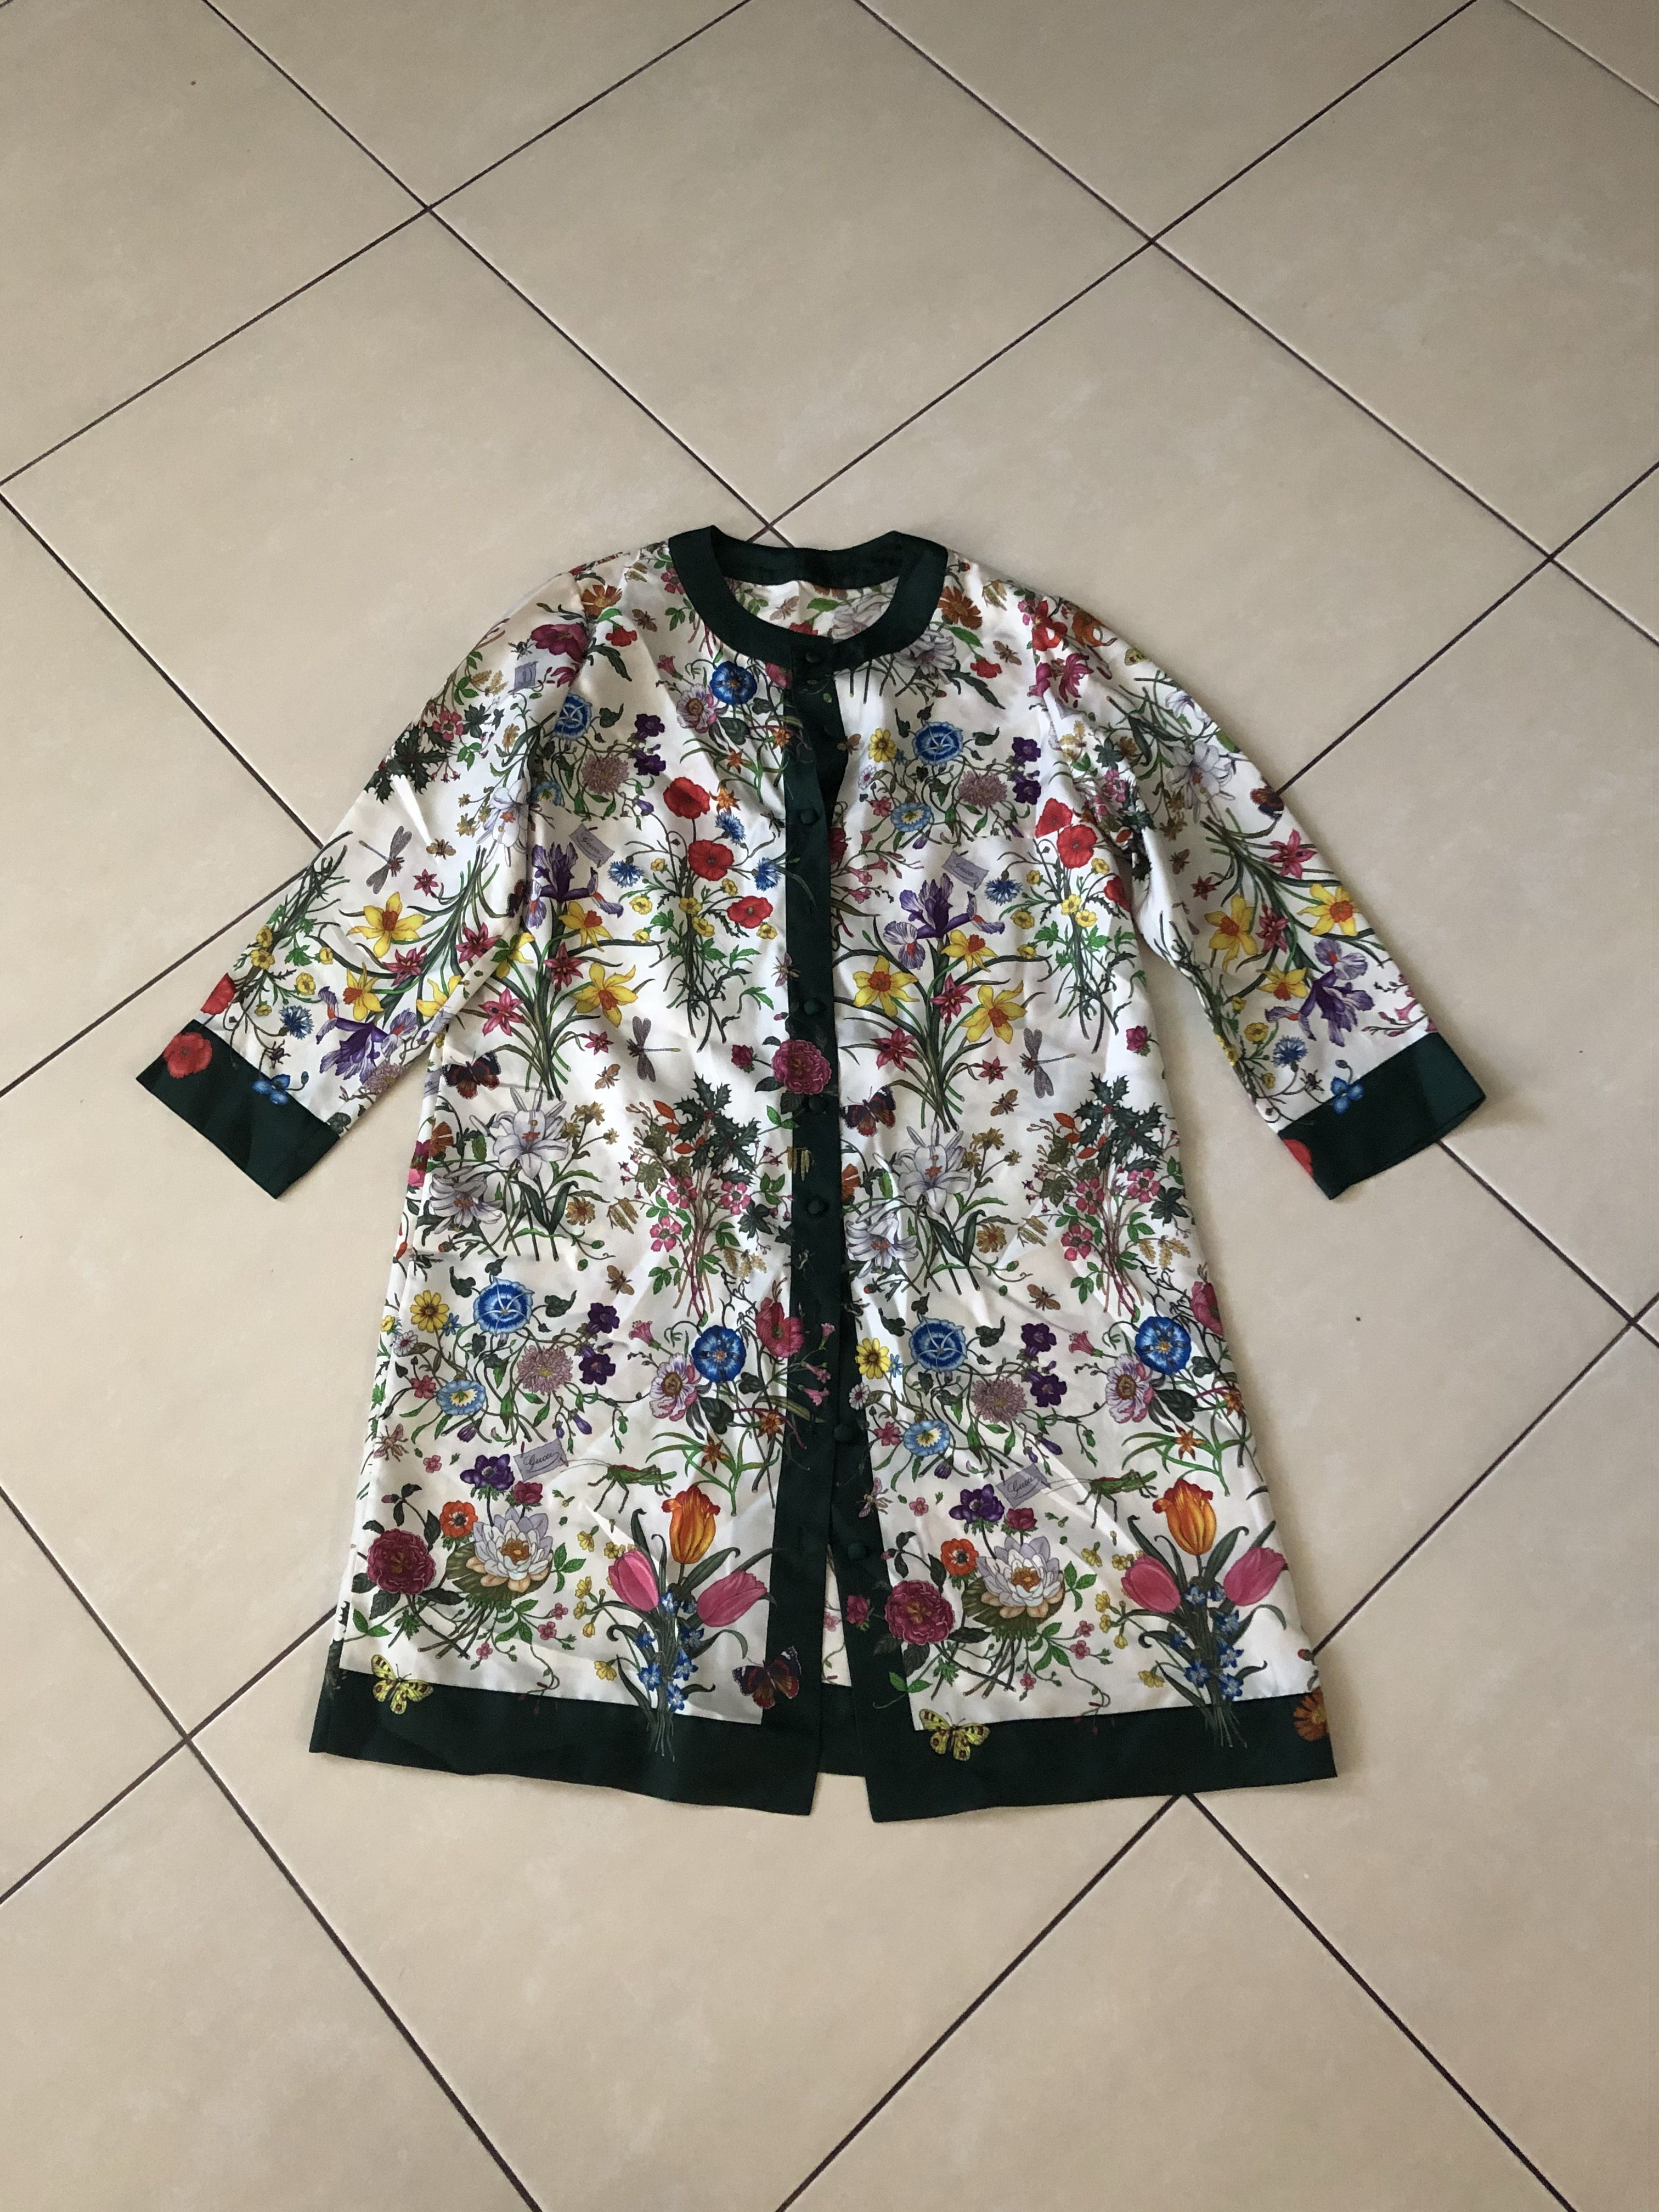clothes: (146, 543, 1476, 1811)
